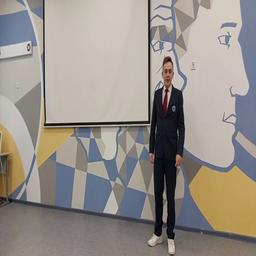person: (147, 58, 184, 256)
